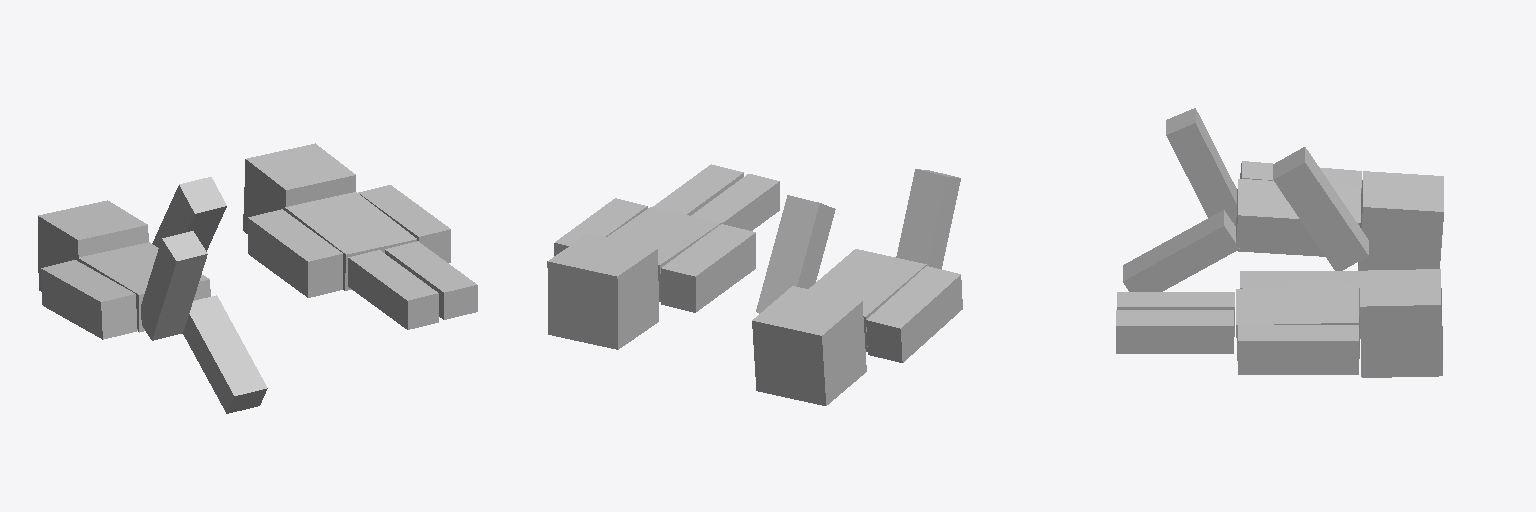
The model's file is steve_000019.obj.
3 renders of one model, left to right at view 1: azimuth 30°, elevation 25°; view 2: azimuth 150°, elevation 25°; view 3: azimuth 270°, elevation 25°, orthographic.
Parts seen in each view (by area): view 1: Cube.001_Cube.002, Cube_Cube.001; view 2: Cube_Cube.001, Cube.001_Cube.002; view 3: Cube.001_Cube.002, Cube_Cube.001.
Boxes of the visible parts, <box> form: Cube.001_Cube.002: <box>243,143,477,329</box>; Cube_Cube.001: <box>38,177,267,413</box>; Cube_Cube.001: <box>752,169,962,405</box>; Cube.001_Cube.002: <box>547,164,779,349</box>; Cube.001_Cube.002: <box>1116,269,1442,377</box>; Cube_Cube.001: <box>1123,108,1443,291</box>.
Bounding box in the file's own units: 6.55 × 2.94 × 5.36.